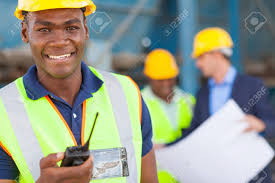Person_wearing_helmet: (10, 0, 99, 40)
